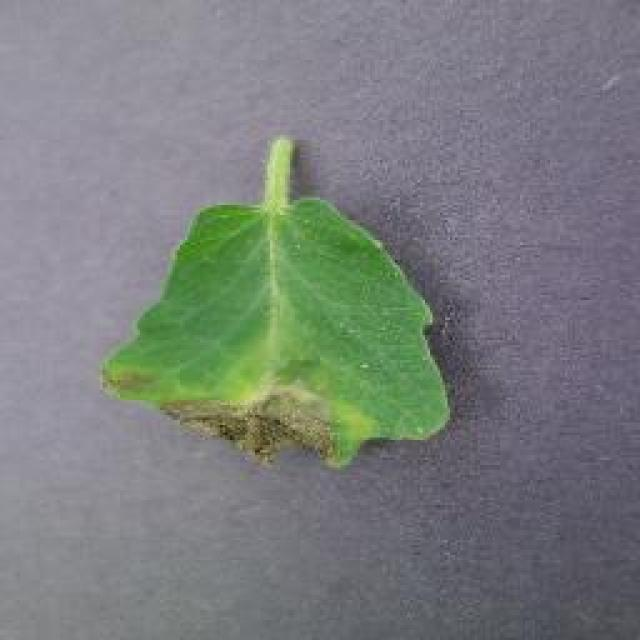Tomato Late Blight: (208, 337, 357, 490)
